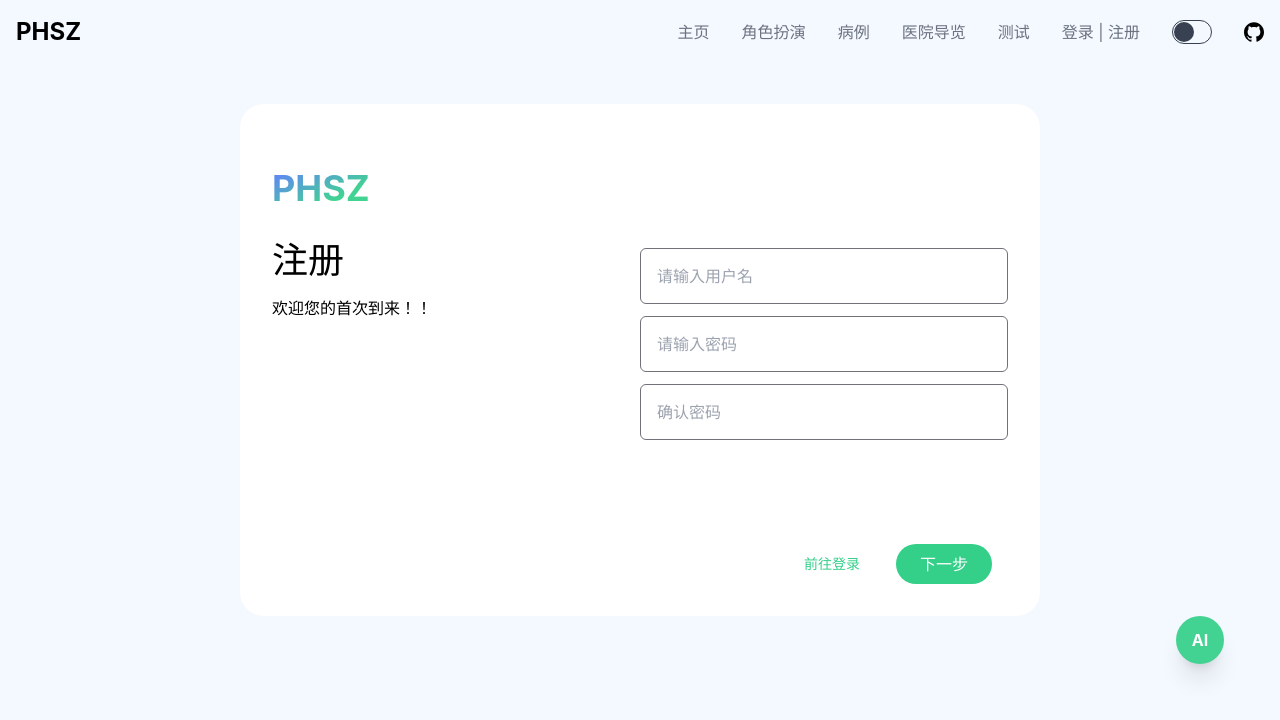
it: Register Test › No Password
Expected: the link "登录 | 注册" is shown, [1062, 22, 1140, 42]
Type "admin" into the field with placeholder "请输入用户名" at {"x": 824, "y": 276}, box [640, 248, 1008, 304]
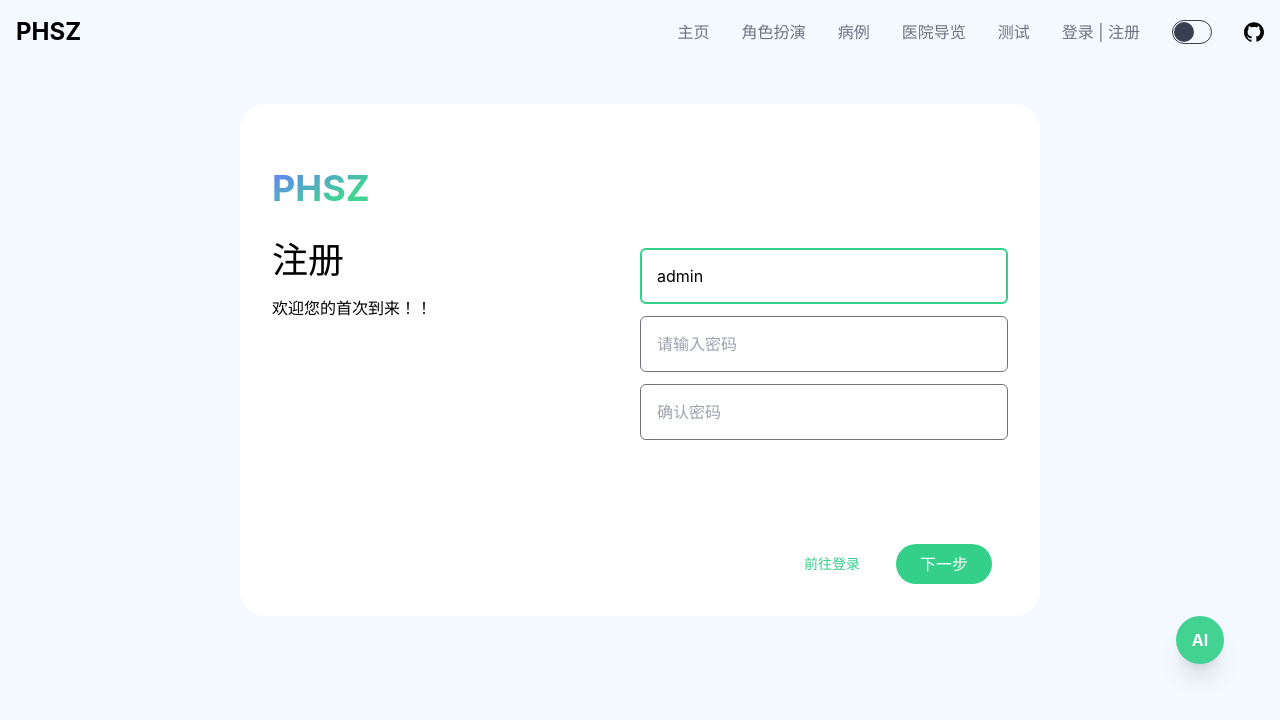
Type "admin" into the password field with placeholder "确认密码" at {"x": 824, "y": 412}, box [640, 384, 1008, 440]
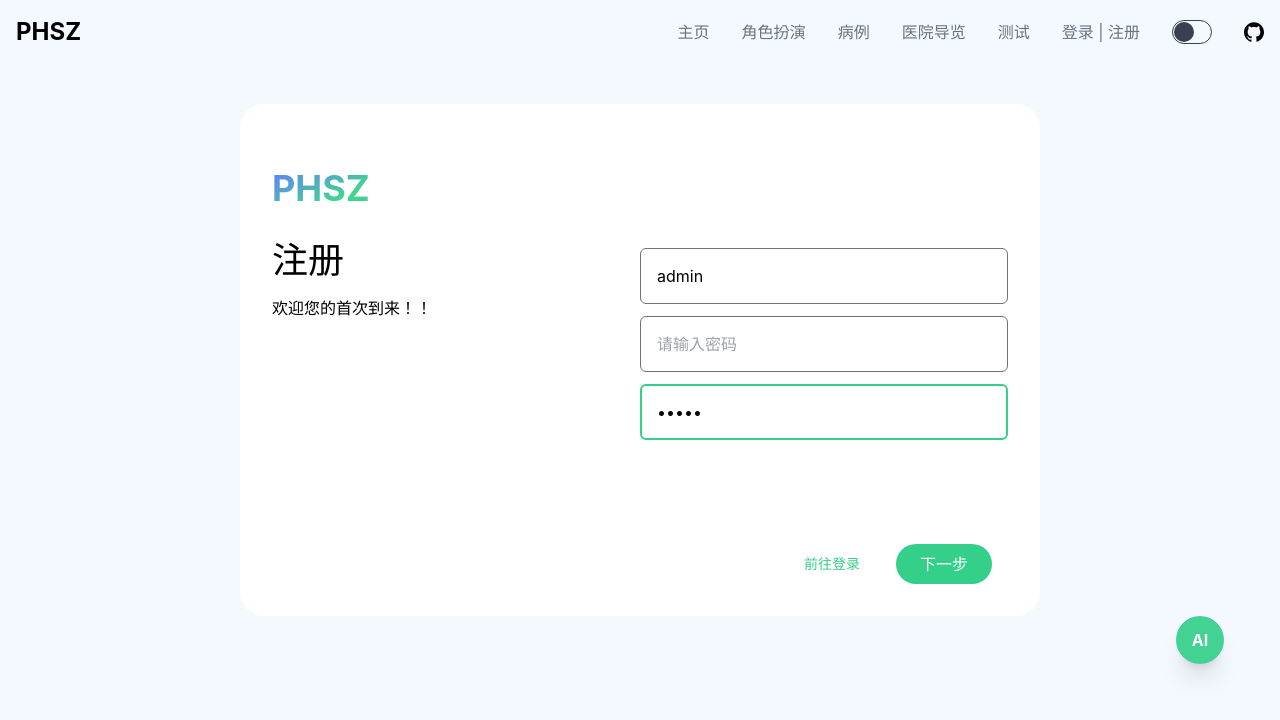
Click the button "下一步" at {"x": 944, "y": 564}, box [896, 544, 992, 584]
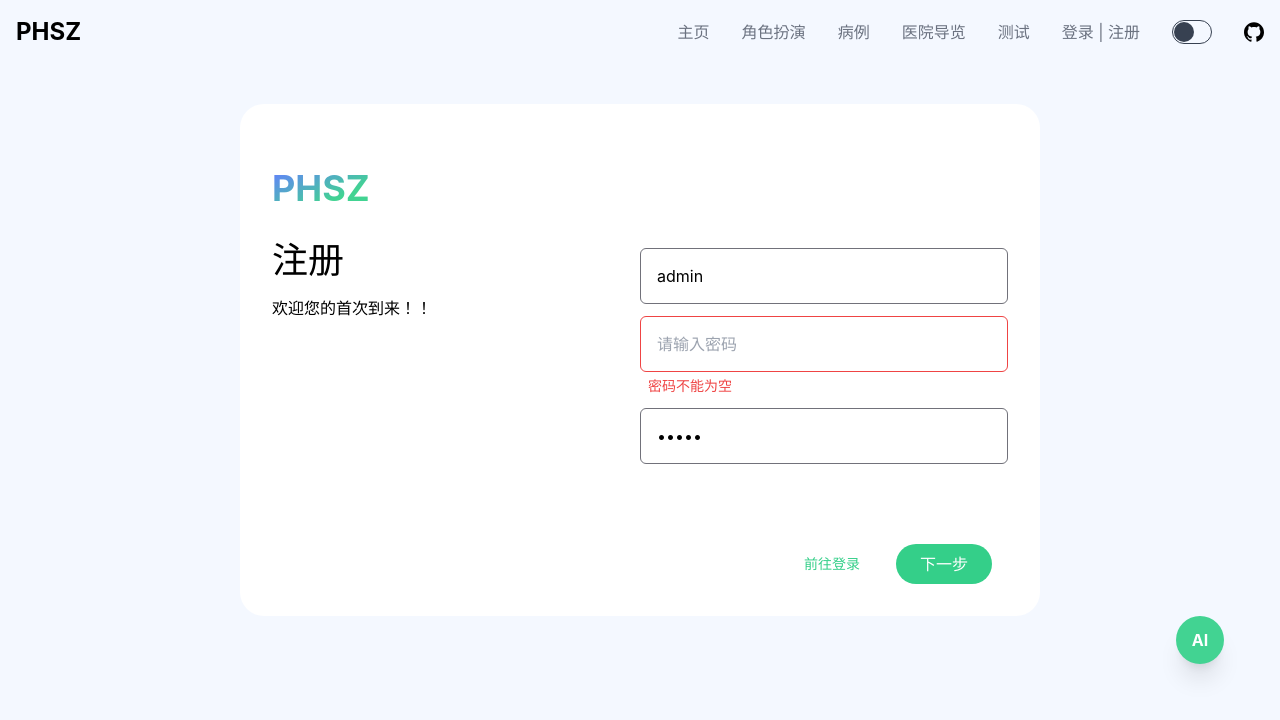
Result: the text "密码不能为空" is shown at [648, 377, 732, 394]
